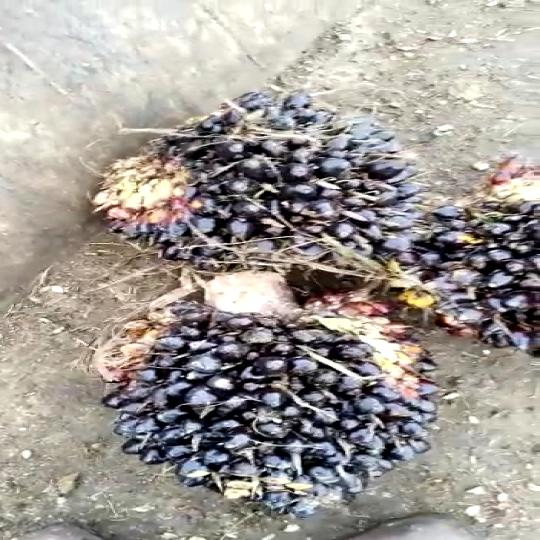mentah: (105, 283, 455, 512), (112, 80, 408, 272)
